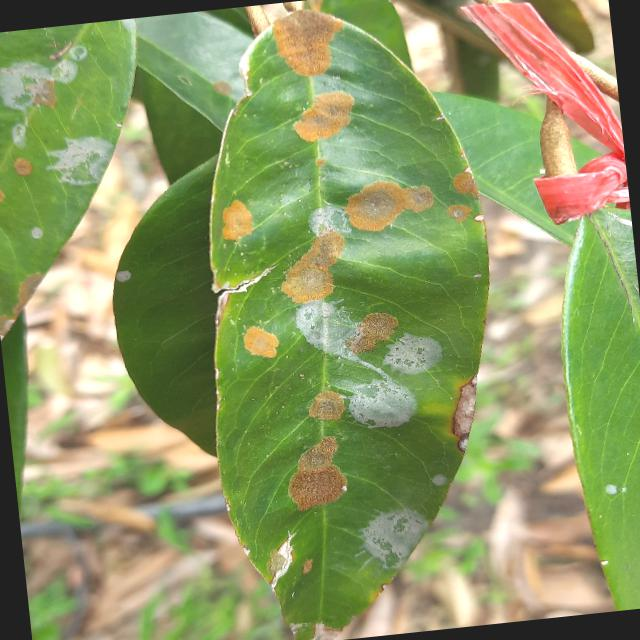Algal Leaf Spot: (157, 0, 534, 639)
